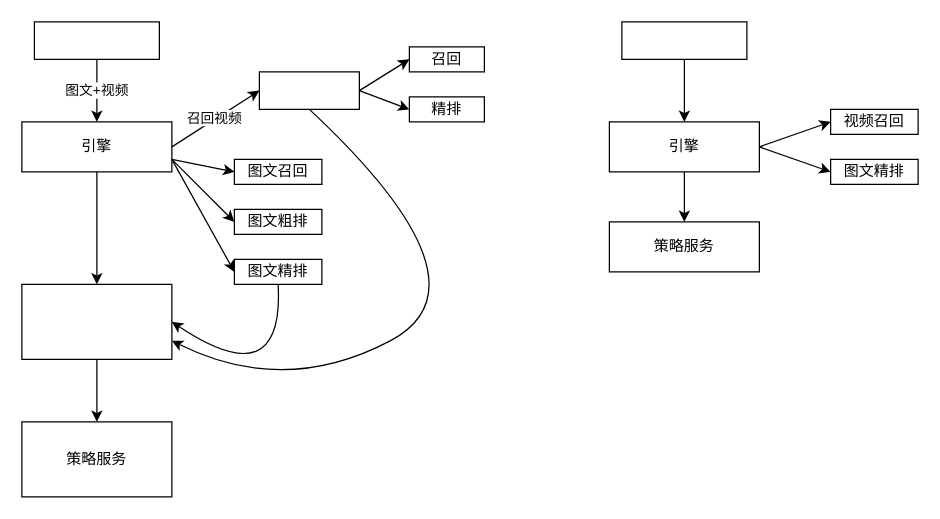
Some shapes in this 940 by 519 pixel diagram are drawn without their labels. Here are the shapes that lost their labels. From the top down, the box of each, then its label:
(33, 21, 159, 59): 360导航右侧流
(621, 21, 747, 59): 视频流scene=25
(258, 71, 359, 109): 二级引擎
(21, 283, 172, 359): 引擎内部 数据融合
